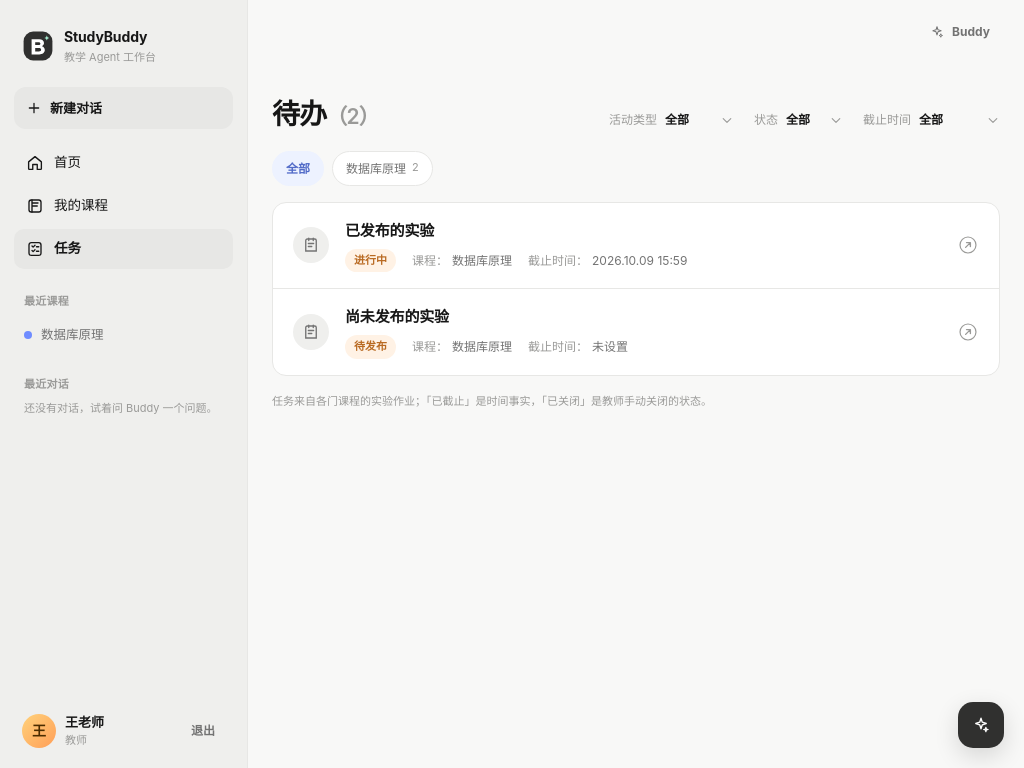
Test case: 任务页 › 教师按「待发布」筛选只剩草稿任务
This screenshot has width=1024, height=768.
Expected: the text "尚未发布的实验" is shown, [345,307,449,326]
Expected: the heading "待办（2）" is shown, [272,96,379,132]
Select "待发布" in the dropdown labelled "状态": (814, 120) [786,105,843,135]
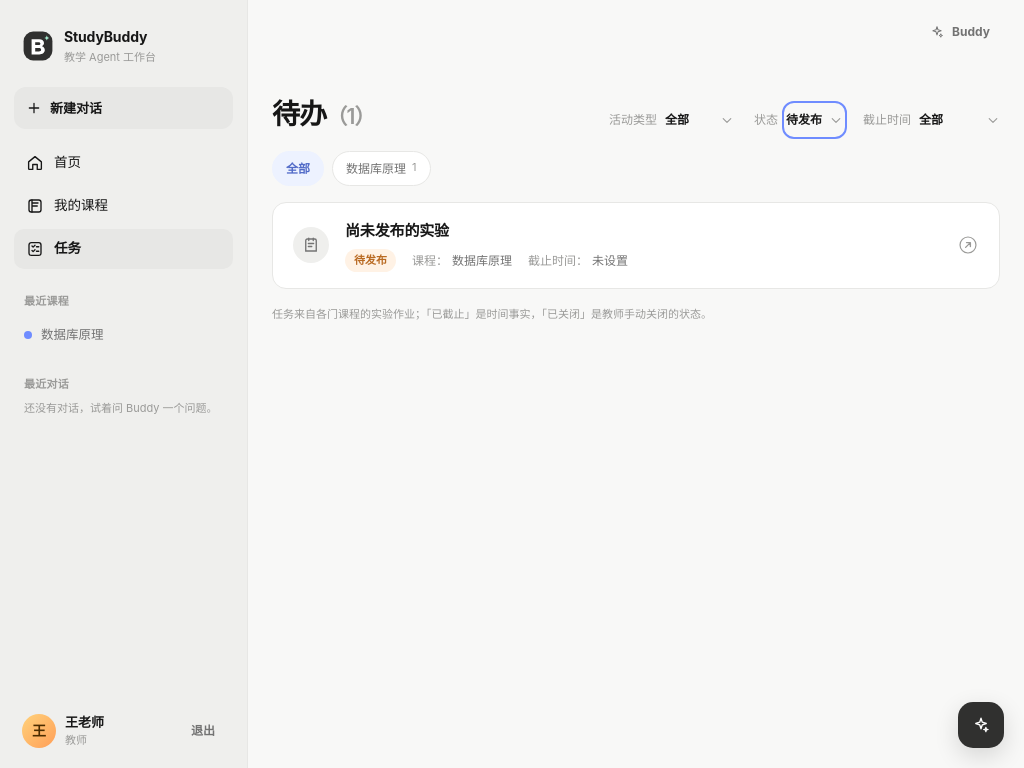
Expected: the text "尚未发布的实验" is shown, [345,221,449,240]
Expected: the link "已发布的实验" is gone
Expected: the heading "待办（1）" is shown, [272,96,375,132]
